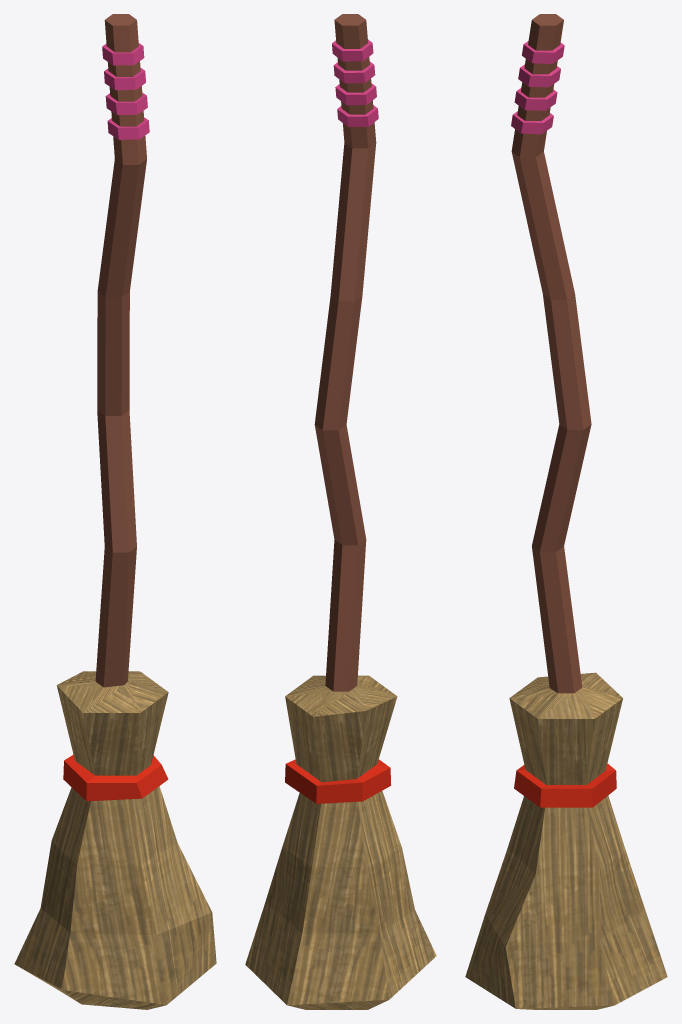
Rendered from Broom.fbx.
3 views of the same model, side by side, from view 1: azimuth 30°, elevation 25°; view 2: azimuth 150°, elevation 25°; view 3: azimuth 270°, elevation 25° (orthographic).
Parts seen in each view (by area): view 1: Cylinder; view 2: Cylinder; view 3: Cylinder.
Part boxes in pixels (x1=…): Cylinder: x1=14, y1=14, x2=216, y2=1009; Cylinder: x1=245, y1=14, x2=436, y2=1009; Cylinder: x1=465, y1=14, x2=667, y2=1009.
Size of the model in its own units: 87.68 by 534 by 101.
